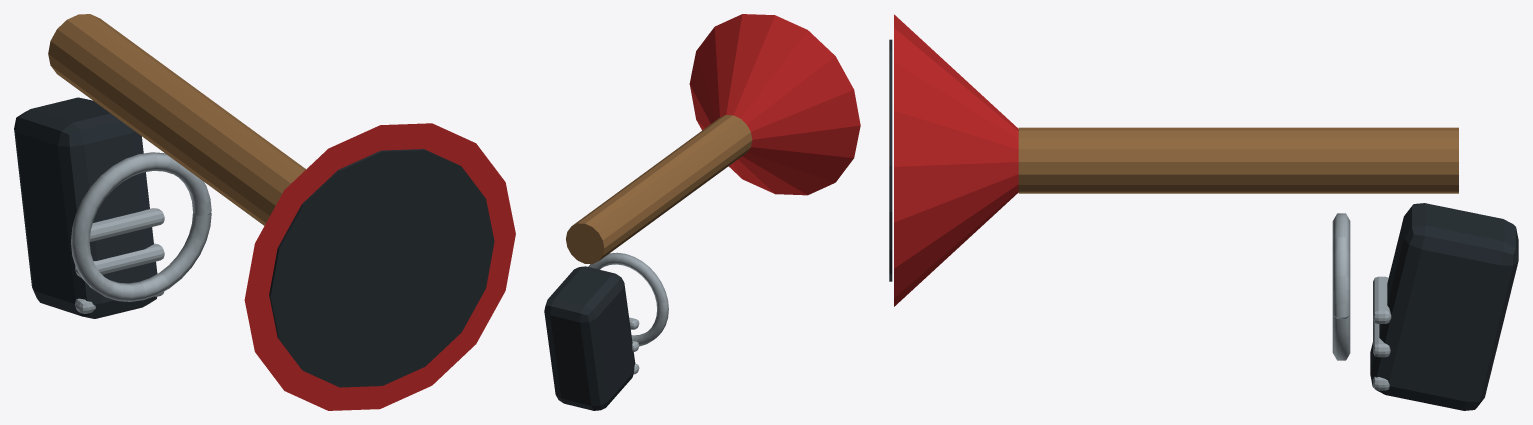
File: plunger-launcher.glb
3 renders of one model, left to right at view 1: azimuth 30°, elevation 25°; view 2: azimuth 150°, elevation 25°; view 3: azimuth 270°, elevation 25°, orthographic. The views are drawn at different scales.
Visible parts, largest first — view 1: barrel; view 2: barrel; view 3: barrel.
Part boxes in pixels (left/top/right/bottom): barrel: left=14, top=14, right=515, bottom=410; barrel: left=544, top=14, right=860, bottom=410; barrel: left=889, top=14, right=1518, bottom=410.
Bounding box in the file's own units: 0.4 × 0.5589 × 0.857.
